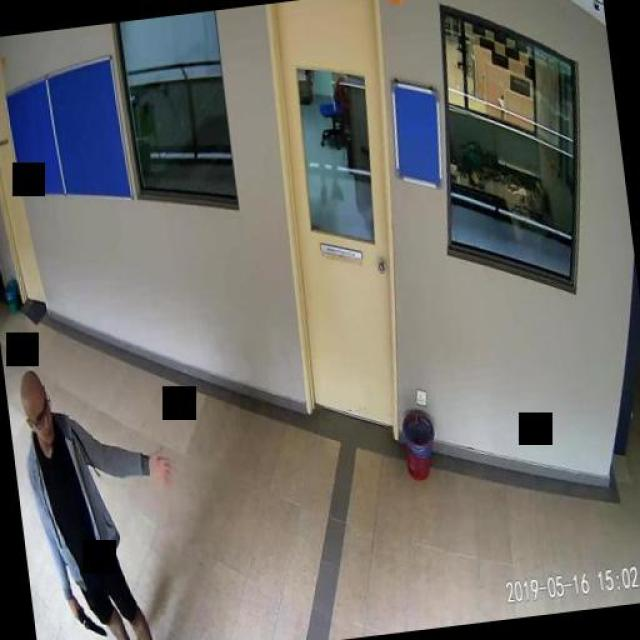gun: (70, 596, 102, 636)
